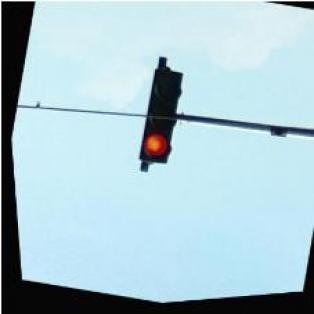Semaforo Rojo: (128, 67, 190, 172)
